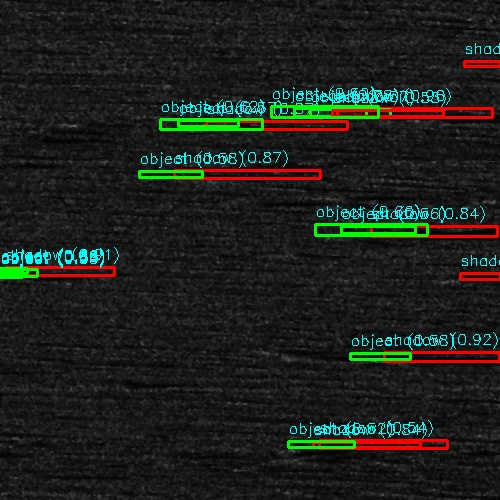rock: (250, 105, 385, 116), (427, 274, 490, 281), (291, 443, 344, 448), (0, 267, 18, 278), (135, 172, 176, 175)
shadow: (0, 267, 190, 278), (318, 105, 470, 116), (318, 443, 469, 448), (156, 172, 331, 175), (0, 446, 58, 453), (459, 274, 500, 281)
